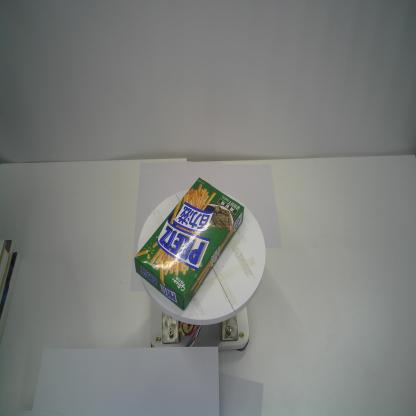Dessert: (134, 176, 244, 309)
